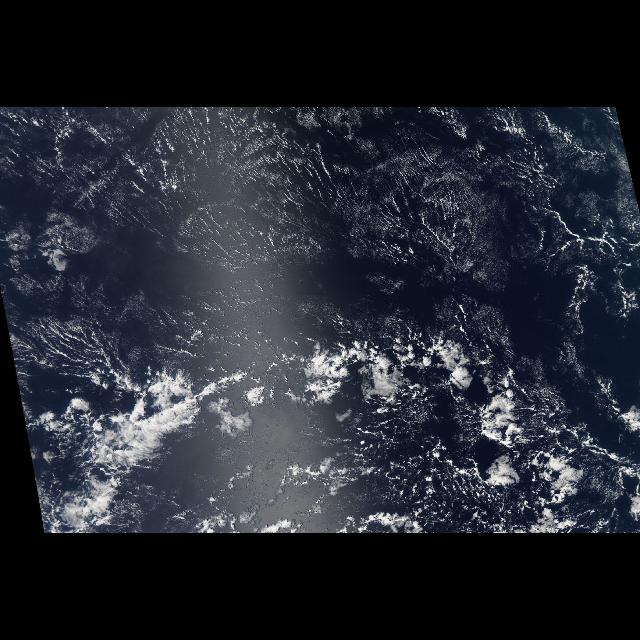Fish: (100, 332, 618, 522)
Flower: (235, 338, 640, 450)
Sugar: (0, 108, 640, 306)
